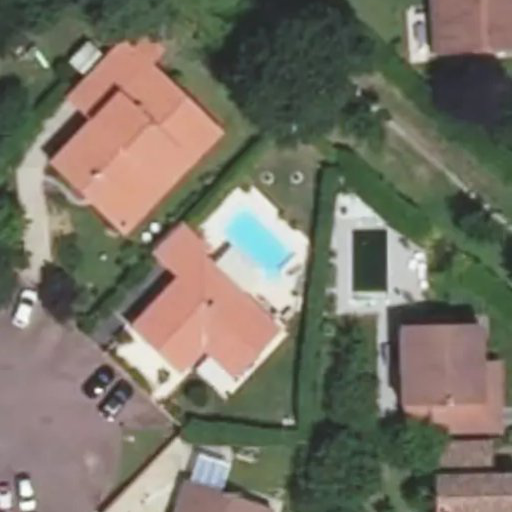pool: (211, 232, 302, 259)
